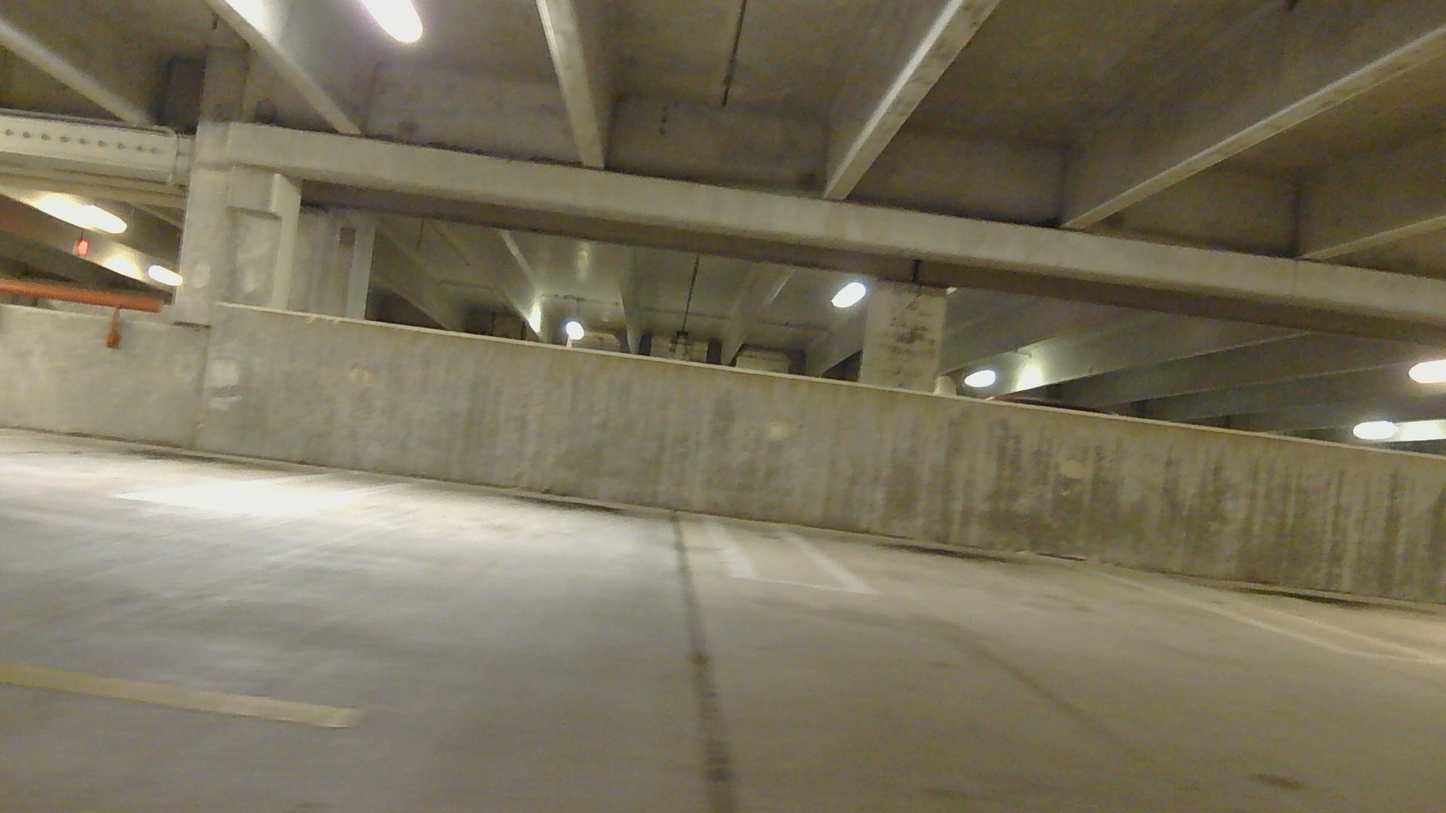empty_spot: (779, 464, 1358, 655), (269, 392, 743, 577)
